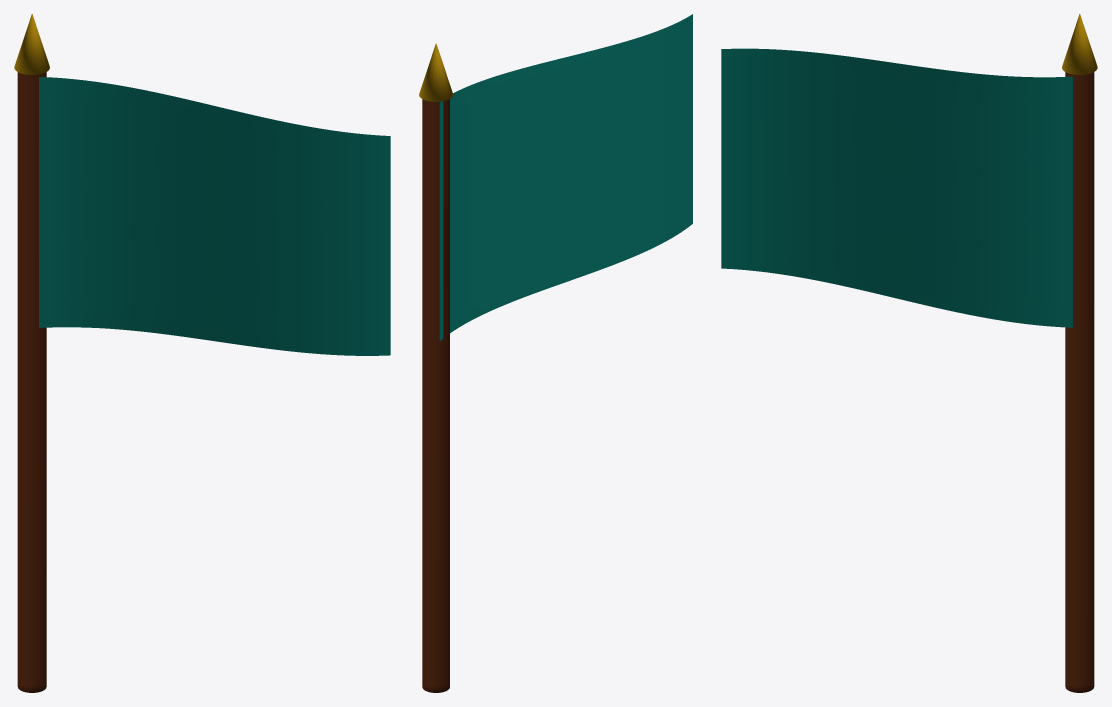
File: frame1.obj
3 renders of one model, left to right at view 1: azimuth 90°, elevation 25°; view 2: azimuth 150°, elevation 25°; view 3: azimuth 270°, elevation 25°, orthographic. The views are drawn at different scales.
Visible parts, largest first — view 1: Plane, Circle; view 2: Plane, Circle; view 3: Plane, Circle.
Boxes of the visible parts, box(x1,y1,x2,y2) form: Plane: box(39, 77, 390, 355); Circle: box(14, 14, 49, 692); Plane: box(439, 14, 692, 340); Circle: box(419, 43, 453, 692); Plane: box(721, 48, 1072, 327); Circle: box(1062, 14, 1097, 692).
Size of the model in its own units: 0.6668 by 4.1 by 2.08.
